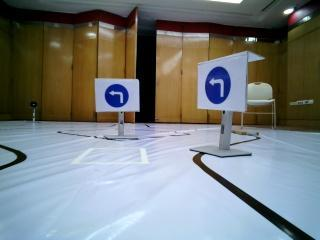left: (195, 64, 252, 112), (95, 78, 139, 112)
